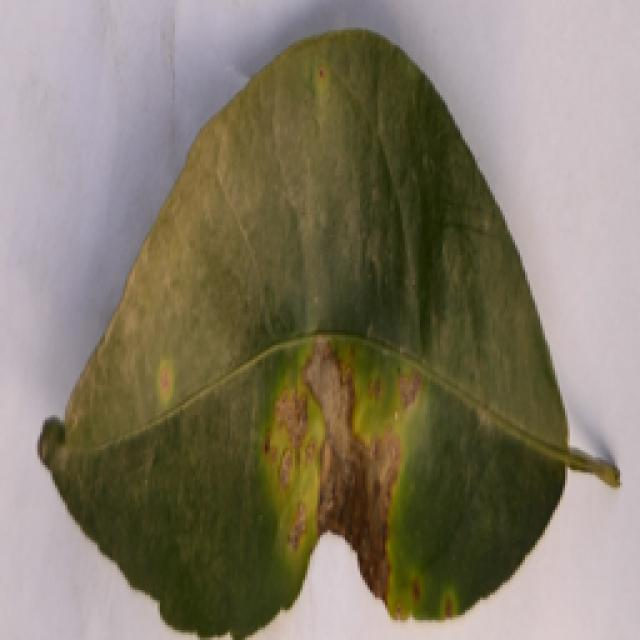canker: (34, 31, 624, 637)
